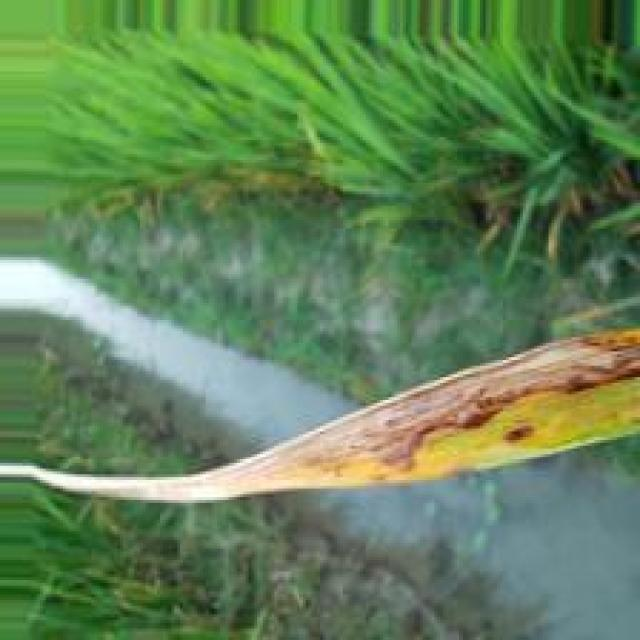Leaf_Scald: (166, 334, 640, 500), (494, 422, 539, 447)
